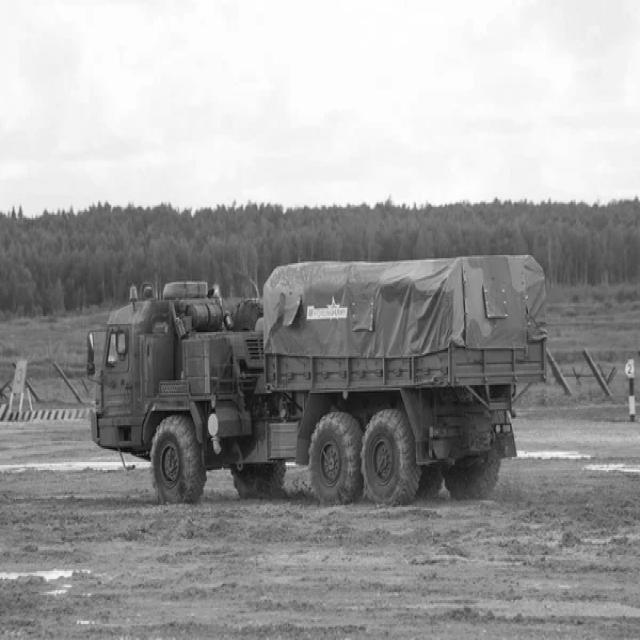Truck: (92, 256, 546, 502)
